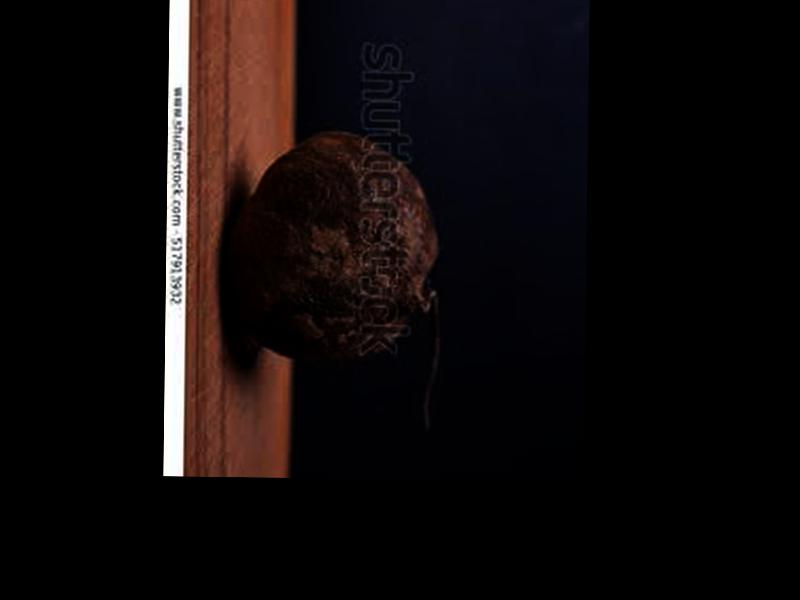Beet: (226, 130, 444, 436)
